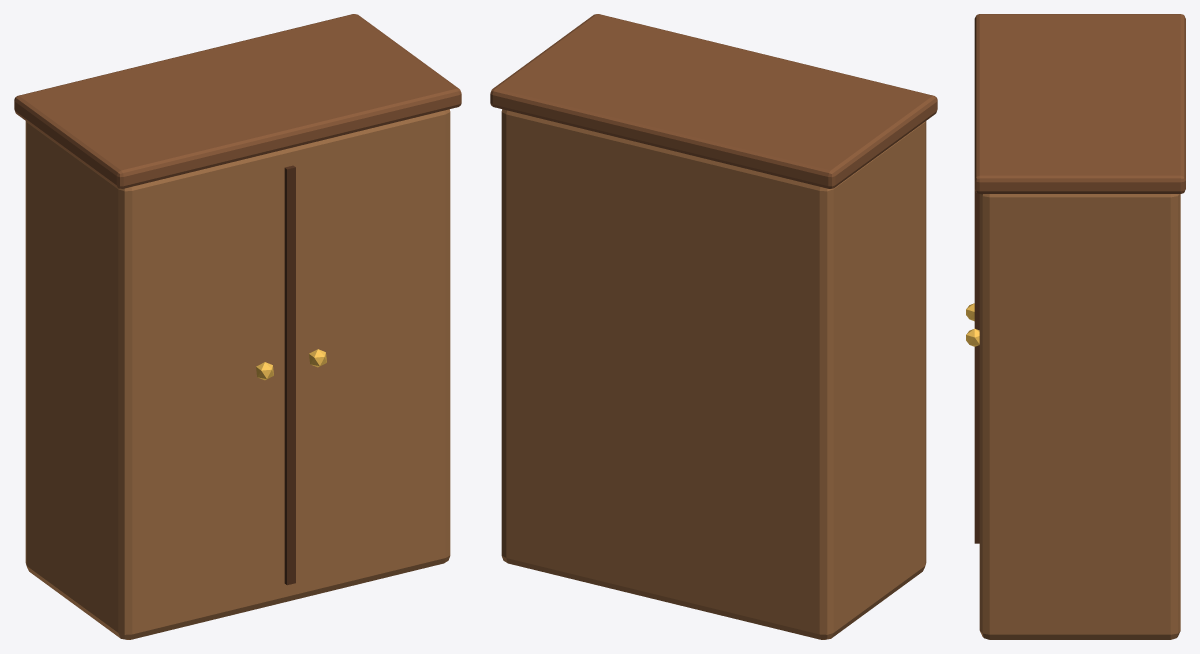
The picture shows the model from 3 angles, left to right: view 1: azimuth 30°, elevation 25°; view 2: azimuth 150°, elevation 25°; view 3: azimuth 270°, elevation 25°; orthographic projection.
Parts seen in each view (by area): view 1: tu-do-0, tu-do-4, tu-do-1; view 2: tu-do-0, tu-do-4; view 3: tu-do-0, tu-do-4, tu-do-1.
Part boxes in pixels (left/top/right/bottom): tu-do-0: left=25, top=109, right=450, bottom=639; tu-do-4: left=14, top=14, right=461, bottom=188; tu-do-1: left=284, top=165, right=295, bottom=585; tu-do-0: left=501, top=109, right=926, bottom=639; tu-do-4: left=490, top=14, right=937, bottom=188; tu-do-0: left=979, top=194, right=1180, bottom=639; tu-do-4: left=974, top=14, right=1185, bottom=193; tu-do-1: left=974, top=190, right=979, bottom=543.
Bounding box in the file's own units: 1.56 × 2.06 × 0.874.
